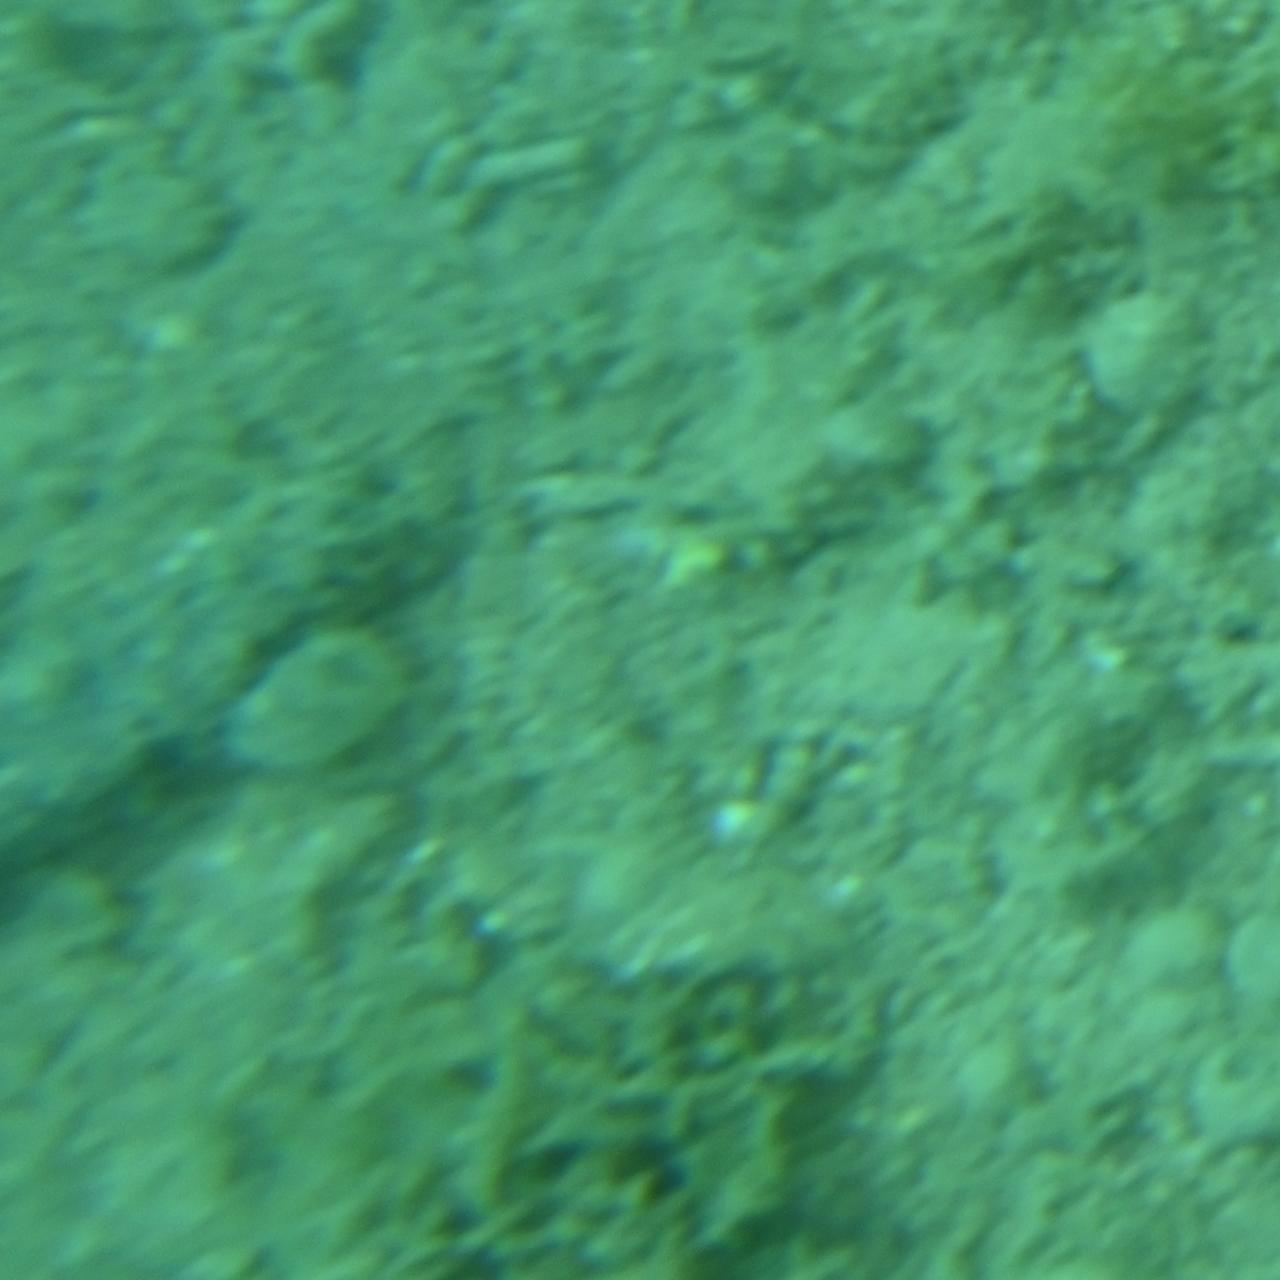Holothuria tubulosa: (0, 414, 501, 866)
